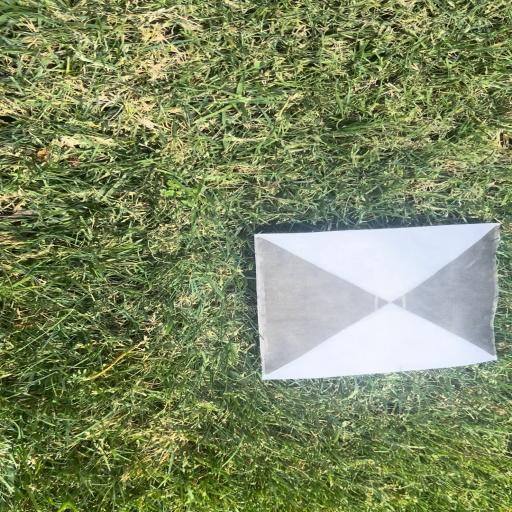target: (257, 221, 498, 379)
